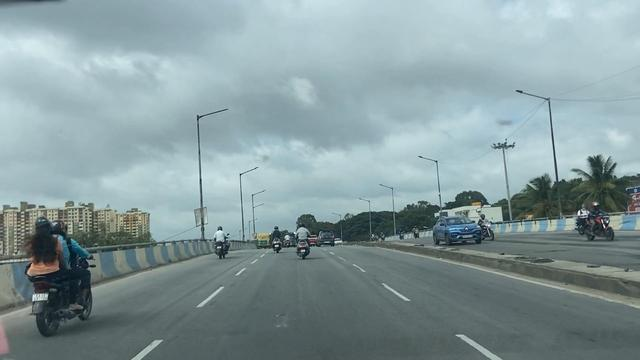LMV: (29, 220, 89, 327), (294, 224, 311, 266), (215, 224, 229, 262), (318, 229, 334, 248), (271, 223, 280, 255)
